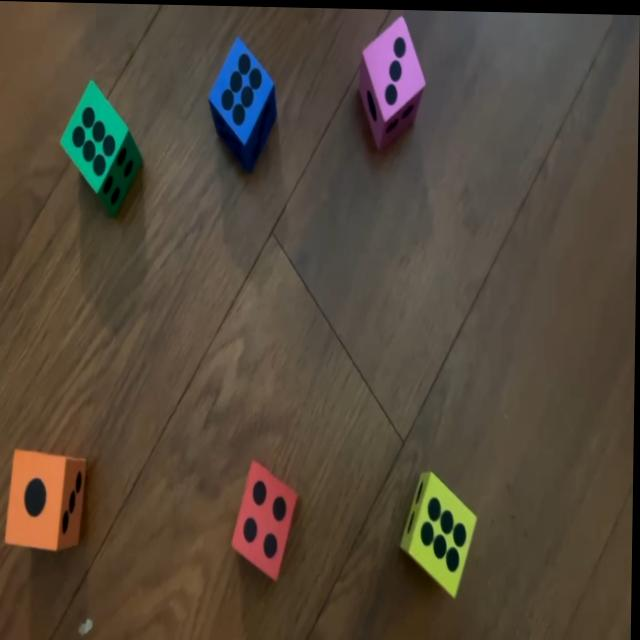blue_block: (208, 35, 278, 167)
red_block: (233, 455, 302, 578)
